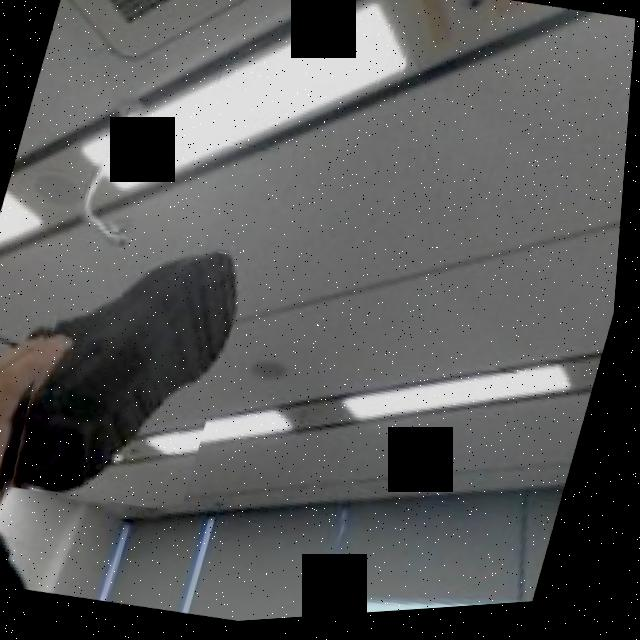shoe: (0, 212, 261, 525)
